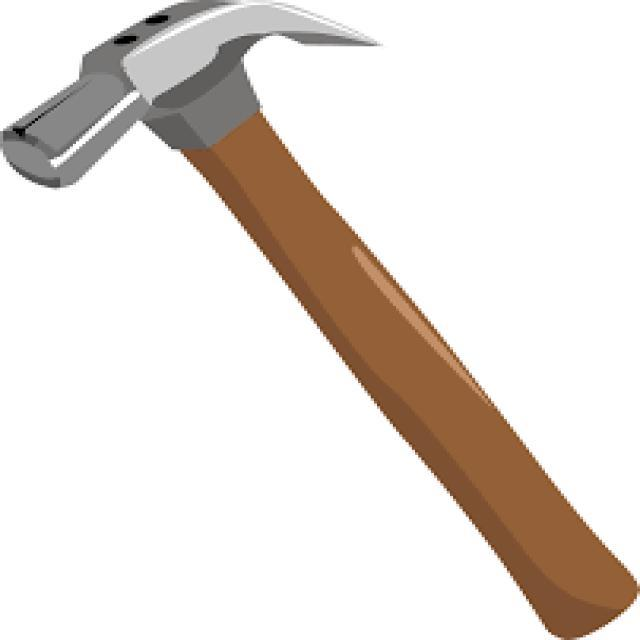Palu: (4, 6, 638, 640)
